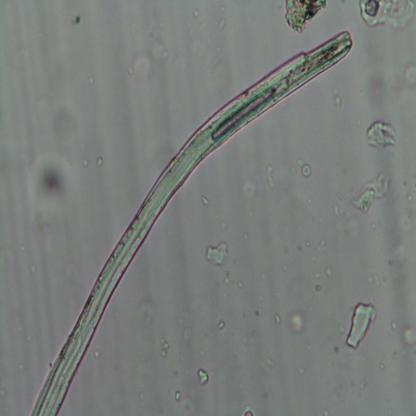Background material: (181, 34, 228, 90), (368, 64, 416, 112), (31, 157, 72, 205), (343, 298, 378, 352), (387, 209, 416, 270), (358, 0, 416, 30), (126, 36, 166, 79), (351, 172, 391, 214), (282, 0, 327, 32), (49, 103, 79, 144), (129, 291, 162, 325), (364, 120, 396, 150), (247, 350, 282, 376), (305, 265, 326, 296), (286, 309, 309, 337), (301, 239, 330, 260), (204, 243, 230, 265), (399, 324, 416, 351), (295, 155, 312, 177), (244, 177, 256, 207), (263, 164, 275, 189), (214, 14, 230, 32), (158, 338, 172, 358), (195, 367, 209, 386), (331, 85, 342, 108), (92, 152, 106, 168), (334, 202, 346, 218), (200, 194, 211, 208), (240, 406, 255, 416), (72, 14, 83, 27), (80, 154, 90, 168), (216, 318, 226, 332), (325, 266, 334, 280), (190, 9, 202, 18), (330, 346, 340, 353), (274, 314, 280, 325), (174, 391, 180, 399)
Microfibre: (30, 33, 351, 415)
